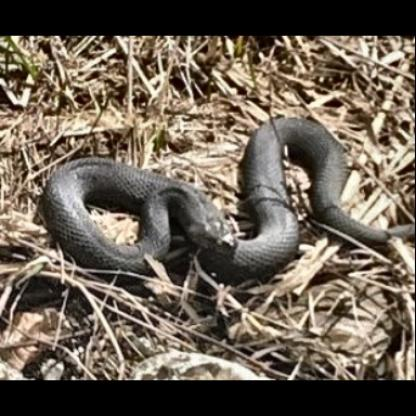Snake: (41, 100, 355, 282)
